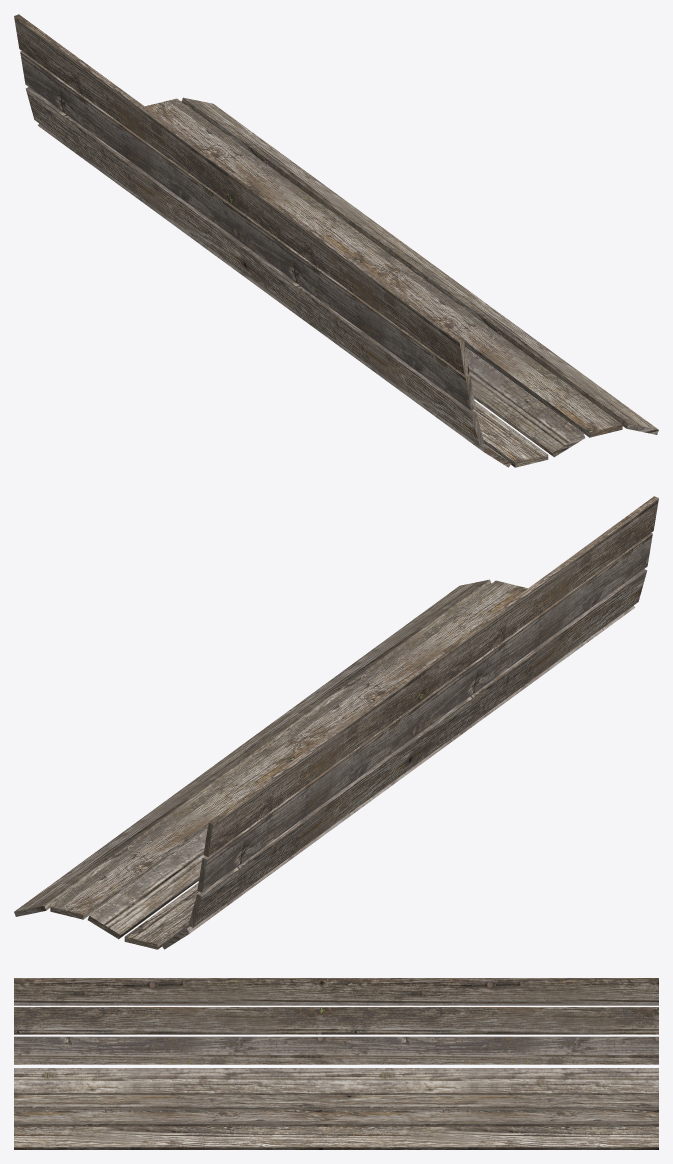
The model's file is bench1.fbx.
The picture shows the model from 3 angles, top to bottom: view 1: azimuth 30°, elevation 25°; view 2: azimuth 150°, elevation 25°; view 3: azimuth 270°, elevation 25°; orthographic projection. The views are drawn at different scales.
Visible parts, largest first — view 1: polySurface1; view 2: polySurface1; view 3: polySurface1.
Part boxes in pixels (<box>): polySurface1: <box>14,14,658,467</box>; polySurface1: <box>14,496,658,949</box>; polySurface1: <box>14,978,658,1149</box>.
Size of the model in its own units: 54.3 by 36.87 by 210.
